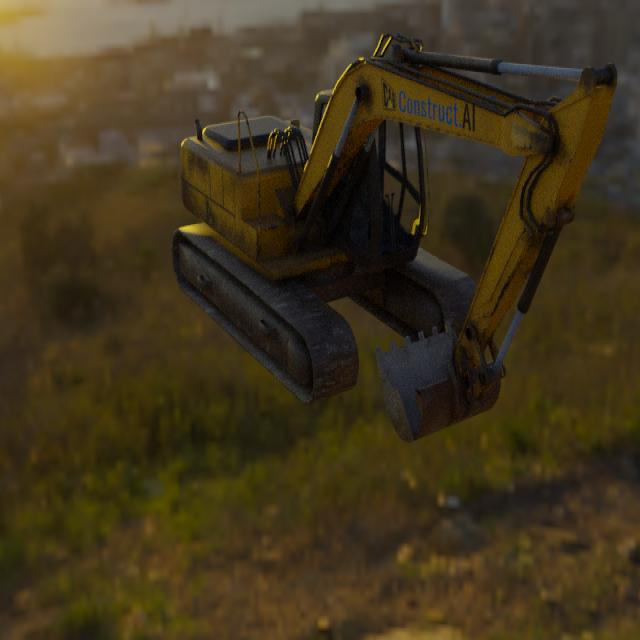excavator: (170, 30, 617, 442)
